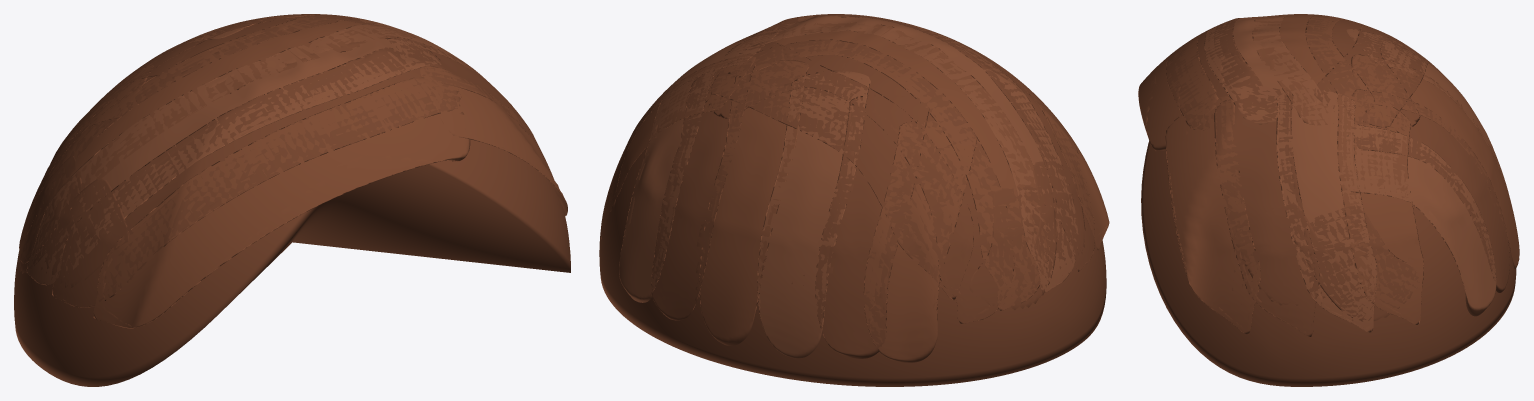
Rendered from Masculine-sidepart-pashmina-hair.glb.
The picture shows the model from 3 angles, left to right: view 1: azimuth 30°, elevation 25°; view 2: azimuth 150°, elevation 25°; view 3: azimuth 270°, elevation 25°; orthographic projection. The views are drawn at different scales.
Visible parts, largest first — view 1: 226 hair / Hair / sculpted 0.001, 226 hair / Hair / sculpted 1.002, 226 hair / Hair / sculpted 1.001, 226 hair / Hair / sculpted 2.001; view 2: 226 hair / Hair / sculpted 1.001, 226 hair / Hair / sculpted 0.001, 226 hair / Hair / sculpted 2.001, 226 hair / Hair / sculpted 1.002; view 3: 226 hair / Hair / sculpted 1.001, 226 hair / Hair / sculpted 0.001, 226 hair / Hair / sculpted 2.001, 226 hair / Hair / sculpted 1.002.
Boxes of the visible parts, x1,y1,x2,y2 form: 226 hair / Hair / sculpted 0.001: [19, 14, 567, 328]; 226 hair / Hair / sculpted 1.002: [14, 139, 570, 386]; 226 hair / Hair / sculpted 1.001: [19, 14, 546, 307]; 226 hair / Hair / sculpted 2.001: [27, 17, 494, 285]; 226 hair / Hair / sculpted 1.001: [604, 14, 1094, 358]; 226 hair / Hair / sculpted 0.001: [601, 22, 1109, 362]; 226 hair / Hair / sculpted 2.001: [613, 14, 1078, 358]; 226 hair / Hair / sculpted 1.002: [599, 146, 1106, 386]; 226 hair / Hair / sculpted 1.001: [1166, 14, 1509, 336]; 226 hair / Hair / sculpted 0.001: [1138, 14, 1519, 334]; 226 hair / Hair / sculpted 2.001: [1204, 14, 1510, 332]; 226 hair / Hair / sculpted 1.002: [1141, 141, 1516, 386].
Size of the model in its own units: 0.952 by 0.4969 by 0.7106.
